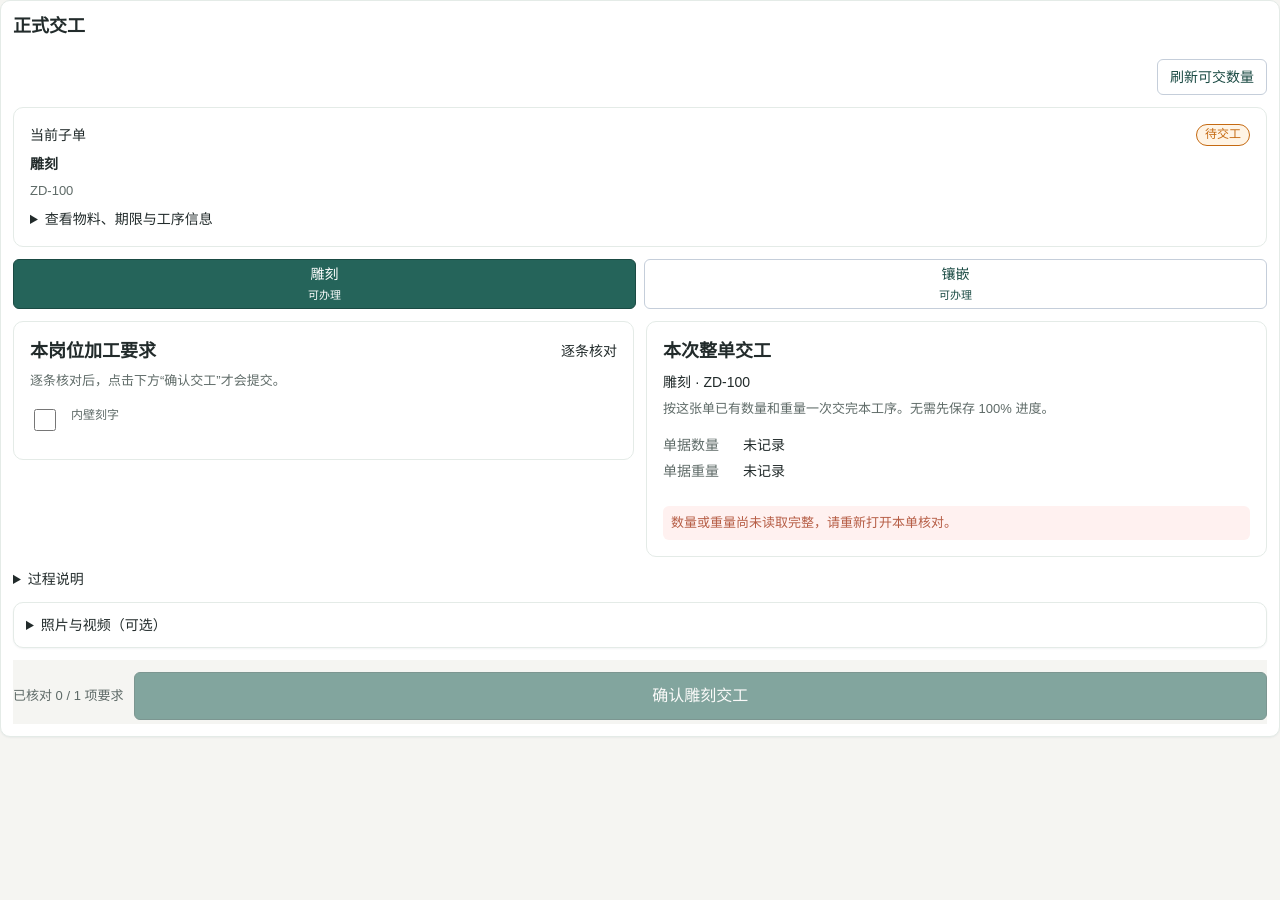
it: 生产面板 › 现场定位到当前可办理工序，切换查看不会自动核对或交工
The image size is (1280, 900).
Click the button with aria-label "选择工序 镶嵌": [956, 284] box [644,258,1267,309]
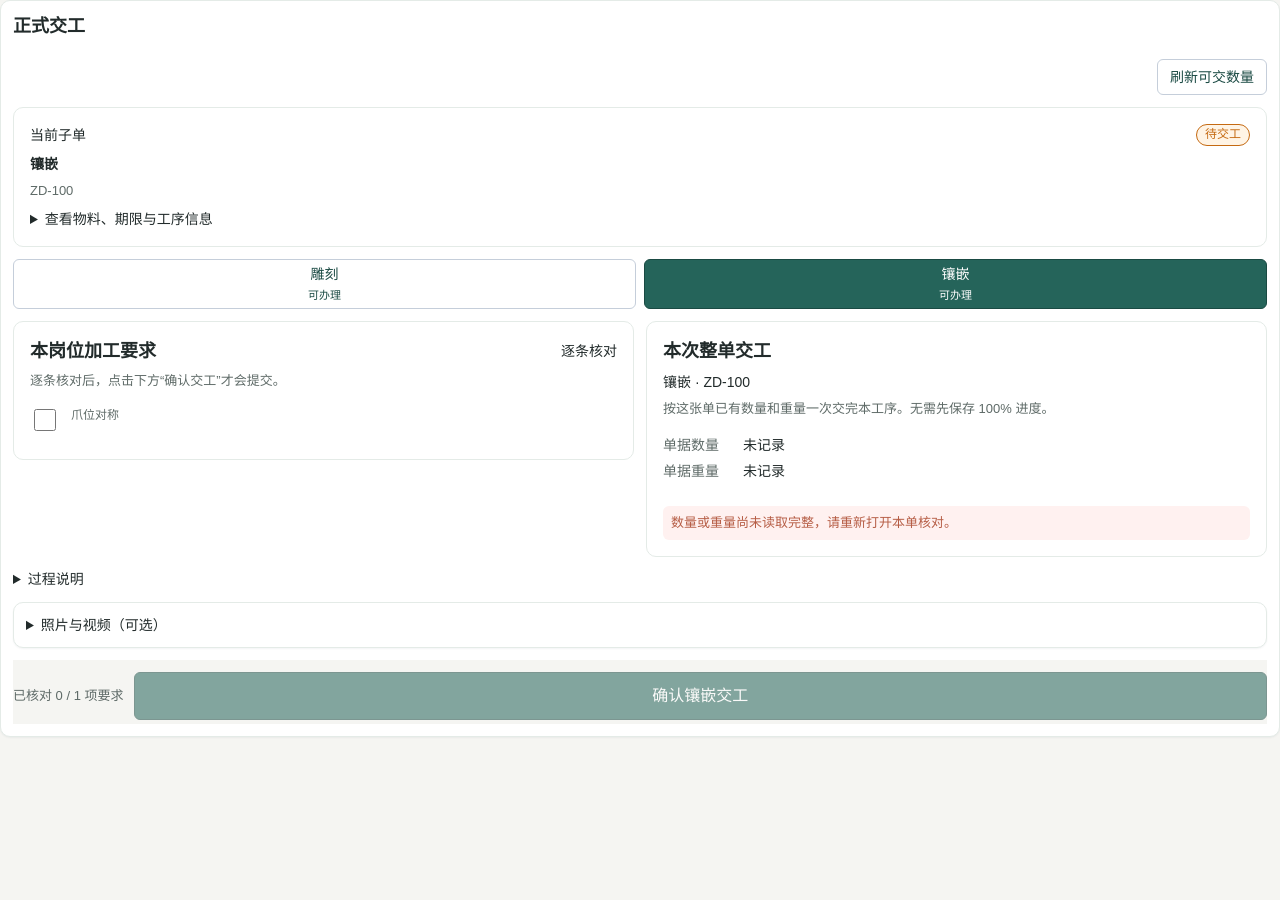
Expected: the element named "本岗位加工要求" shows "爪位对称", [71,408,119,422]
